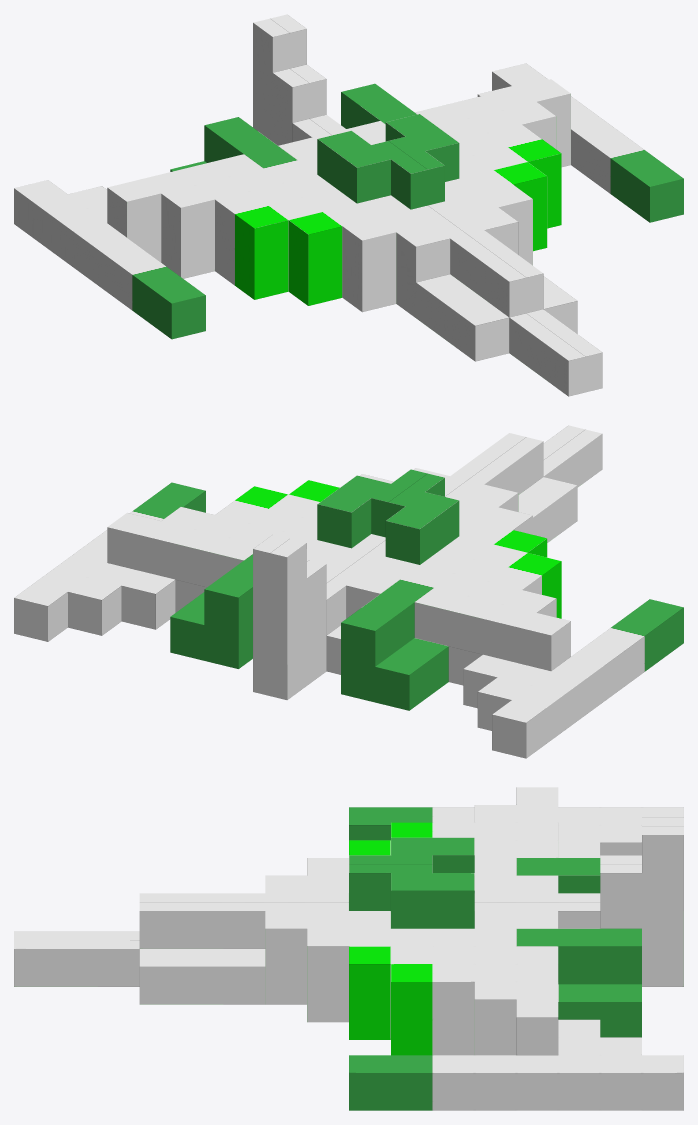
The model's file is Player3.fbx.
The picture shows the model from 3 angles, top to bottom: view 1: azimuth 30°, elevation 25°; view 2: azimuth 150°, elevation 25°; view 3: azimuth 270°, elevation 25°; orthographic projection. The views are drawn at different scales.
Visible parts, largest first — view 1: Ship; view 2: Ship; view 3: Ship.
Boxes of the visible parts, left/top/right/bottom form: Ship: left=14, top=14, right=683, bottom=396; Ship: left=14, top=425, right=683, bottom=758; Ship: left=14, top=787, right=683, bottom=1110.
Size of the model in its own units: 1.98 by 0.5282 by 2.11.
Materials: 1 (1 with a texture image).
